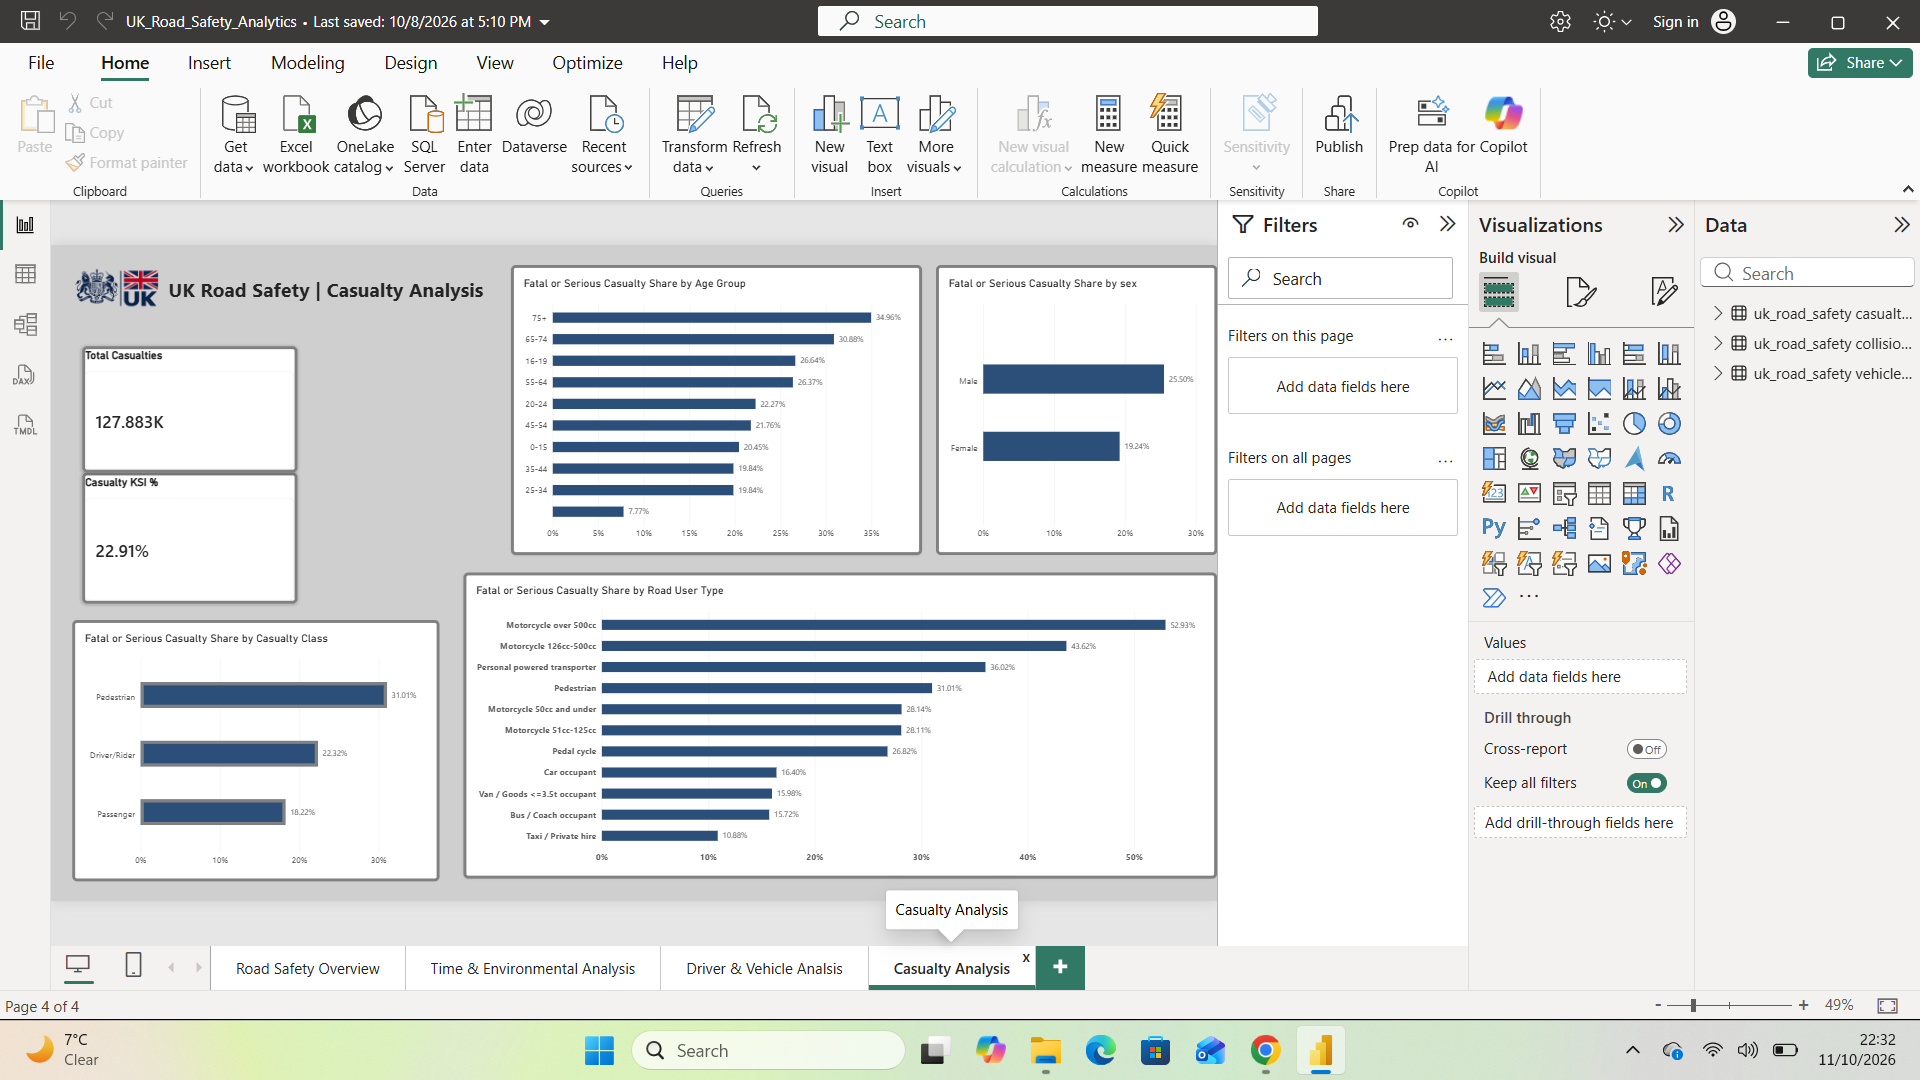

What the dashboard file says about the page in this screenshot:
{"tool":"powerbi","page":{"name":"Casualty Analysis","canvas":[1920,1080],"ordinal":3},"visuals":[{"type":"cardVisual","title":"Casualty KSI %","fields":{"Data":["uk_road_safety casualties_clean.Casualty KSI %"]},"box":[51.5,374.6,354,216.1],"z":0},{"type":"cardVisual","title":"Total Casualties","fields":{"Data":["uk_road_safety casualties_clean.Total Casualties"]},"box":[51.5,166.7,354,207.9],"z":1000},{"type":"clusteredBarChart","title":"Fatal or Serious Casualty Share by Age Group","fields":{"Category":["uk_road_safety casualties_clean.casualty_age_group"],"Y":["uk_road_safety casualties_clean.Casualty KSI %"]},"box":[757.5,32.9,677.2,477.5],"z":2000},{"type":"clusteredBarChart","title":"Fatal or Serious Casualty Share by sex","fields":{"Category":["uk_road_safety casualties_clean.casualty_sex_label"],"Y":["uk_road_safety casualties_clean.Casualty KSI %"]},"box":[1457.3,32.9,463.1,477.5],"z":3000},{"type":"clusteredBarChart","title":"Fatal or Serious Casualty Share by Casualty Class","fields":{"Category":["uk_road_safety casualties_clean.Casualty Class Label"],"Y":["uk_road_safety casualties_clean.Casualty KSI %"]},"box":[35,617.5,605.1,430.2],"z":4000},{"type":"clusteredBarChart","title":"Fatal or Serious Casualty Share by Road User Type","fields":{"Category":["uk_road_safety casualties_clean.Casualty Type Label"],"Y":["uk_road_safety casualties_clean.Casualty KSI %"]},"box":[679.2,539.3,1241.2,504.3],"z":5000},{"type":"textbox","box":[193.5,32.9,539.3,107],"z":6000},{"type":"image","box":[35,0,150.3,140],"z":6001}]}

Visuals, with their boxes on the page's 1920x1080 design canvas (x1, y1, x2, y2). These are canvas units, not pixel positions in the 1920x1080 screenshot, which may show the page scaled, cropped or inside an application window:
"Casualty KSI %" cardVisual: pyautogui.locateOnScreen(52, 375, 406, 591)
"Total Casualties" cardVisual: pyautogui.locateOnScreen(52, 167, 406, 375)
"Fatal or Serious Casualty Share by Age Group" clusteredBarChart: pyautogui.locateOnScreen(758, 33, 1435, 510)
"Fatal or Serious Casualty Share by sex" clusteredBarChart: pyautogui.locateOnScreen(1457, 33, 1920, 510)
"Fatal or Serious Casualty Share by Casualty Class" clusteredBarChart: pyautogui.locateOnScreen(35, 618, 640, 1048)
"Fatal or Serious Casualty Share by Road User Type" clusteredBarChart: pyautogui.locateOnScreen(679, 539, 1920, 1044)
textbox: pyautogui.locateOnScreen(194, 33, 733, 140)
image: pyautogui.locateOnScreen(35, 0, 185, 140)
